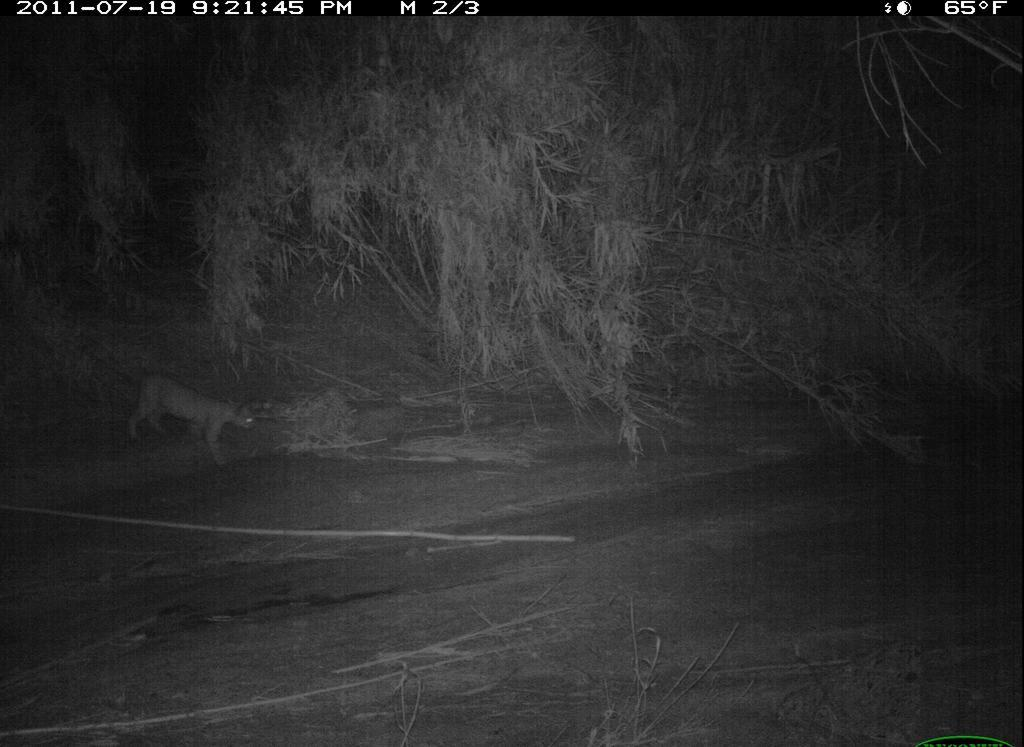bobcat: (116, 338, 269, 479)
